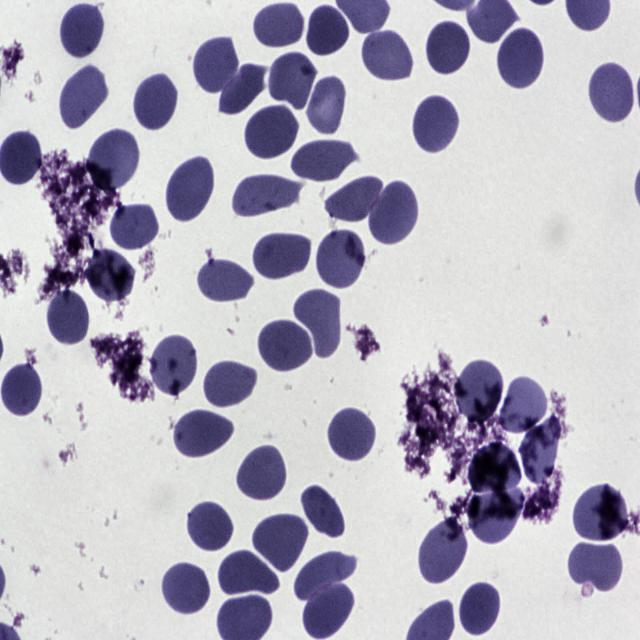red blood cell: (571, 483, 629, 543), (252, 513, 310, 572), (89, 128, 142, 192), (167, 156, 216, 225), (233, 172, 304, 218), (370, 181, 418, 249), (496, 26, 546, 91), (245, 104, 300, 163), (418, 518, 467, 584), (295, 290, 342, 358), (294, 552, 359, 601), (412, 93, 461, 157), (258, 319, 314, 375), (468, 488, 526, 542), (173, 407, 234, 458), (469, 441, 523, 497), (302, 580, 354, 638), (60, 66, 107, 130), (457, 360, 503, 424), (317, 227, 366, 287), (292, 139, 357, 184), (362, 29, 414, 85), (498, 374, 548, 432), (218, 548, 279, 595), (590, 59, 634, 124), (194, 34, 239, 96), (300, 481, 346, 541), (568, 540, 622, 591), (202, 360, 257, 410), (187, 498, 236, 554), (151, 335, 196, 395), (237, 444, 286, 499), (46, 288, 92, 346), (254, 233, 312, 279), (84, 250, 135, 302), (162, 565, 212, 618), (520, 420, 562, 483), (270, 53, 316, 109), (1, 362, 46, 419), (458, 580, 502, 638), (326, 178, 389, 218), (59, 4, 105, 58), (428, 19, 470, 78), (254, 4, 304, 53), (306, 3, 350, 58), (219, 64, 267, 114), (329, 409, 376, 460), (198, 260, 255, 302), (134, 74, 177, 129), (306, 77, 346, 136), (110, 202, 158, 250)
